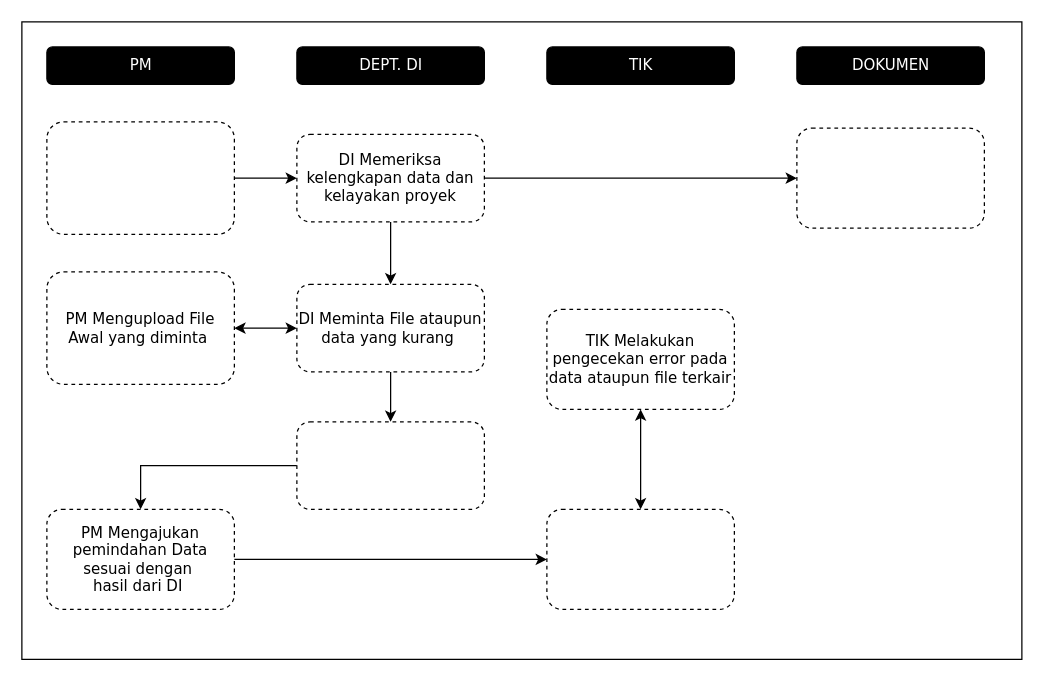
The diagram is 1044 pixels wide and 681 high, and some of its shapes have lost their labels. The box of each missing label's shape, as (x1, y1, x2, y2) in pixels:
DATA VERIFIKASI: (796, 127, 984, 228)
DI Memberikan hasil dari pengecekkan kelayakan proyek: (296, 421, 484, 509)
PM Mengajukan pengecekan kepada Departemen DI: (46, 121, 234, 234)
TIK memindahkan Data ke laman Data Pengadaan atau Rekapan Proyek Gagal: (546, 508, 734, 609)
